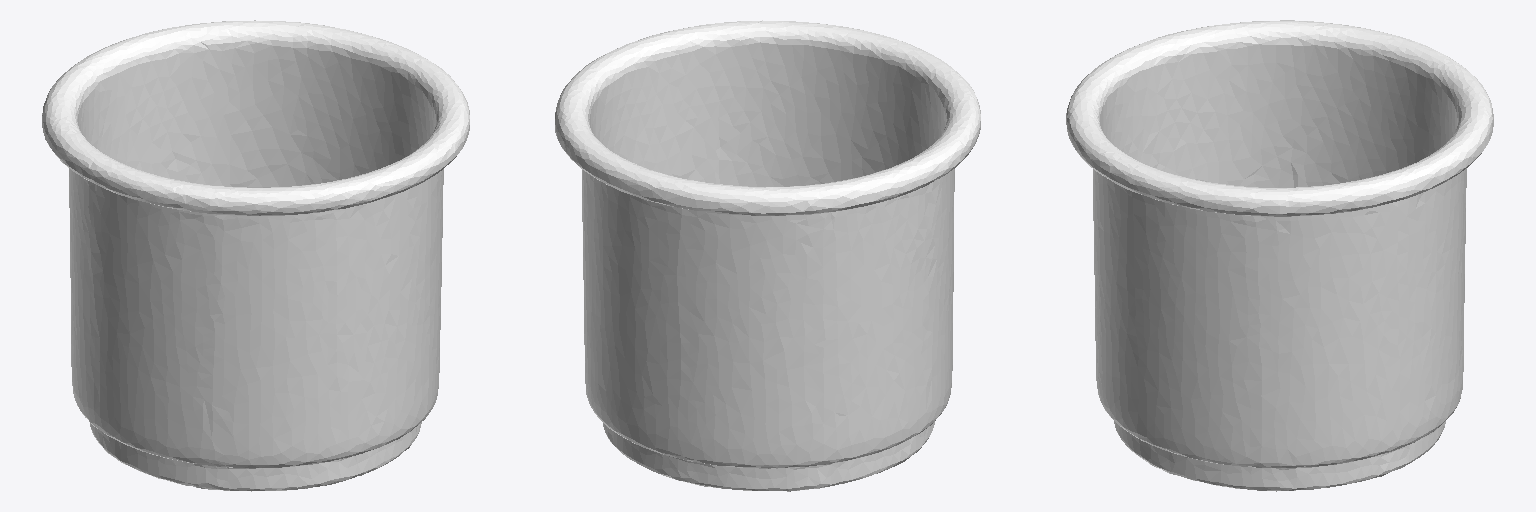
robot.urdf — 022_windex_bottle:
<robot name="022_windex_bottle">
	<link name="_name">
		<visual>
			<origin xyz="-0.13942564305577315 -0.08430043847244359 -1.0236853791650995" rpy="0 0 0" />
			<geometry>
				<mesh filename="022_windex_bottle/google_16k/textured.obj" scale="10 10 10" />
			</geometry>
			<material name="texture">
				<color rgba="1.0 1.0 1.0 1.0" />
			</material>
		</visual>
		<collision>
			<geometry>
				<mesh filename="022_windex_bottle/google_16k/textured_vhacd.obj" scale="10 10 10" />
			</geometry>
		<origin xyz="-0.13942564305577315 -0.08430043847244359 -1.0236853791650995" rpy="0 0 0" /></collision>
		<inertial>
			<mass value="1.0" />
			<inertia ixx="1.0" ixy="0.0" ixz="0.0" iyy="1.0" iyz="0.0" izz="1.0" />
		</inertial>
	</link>
</robot>

--- Facts derived from the render (not from the file) ---
3 views of the same robot in one strip: view 1: azimuth 30°, elevation 25°; view 2: azimuth 150°, elevation 25°; view 3: azimuth 270°, elevation 25° (orthographic).
Robot: 022_windex_bottle — 1 links, 0 joints (none); root link _name; default pose: all joints at 0.
Links seen in each view (by area): view 1: _name; view 2: _name; view 3: _name.
Boxes of the visible links, x1=… form: _name: x1=42, y1=20, x2=469, y2=491; _name: x1=555, y1=20, x2=980, y2=491; _name: x1=1066, y1=20, x2=1493, y2=491.
Bounding box of the posed robot: 0.915 × 0.9162 × 0.7506 m (x, y, z).
Meshes: 1 distinct files referenced, 1 mesh visuals loaded (1 OBJ).